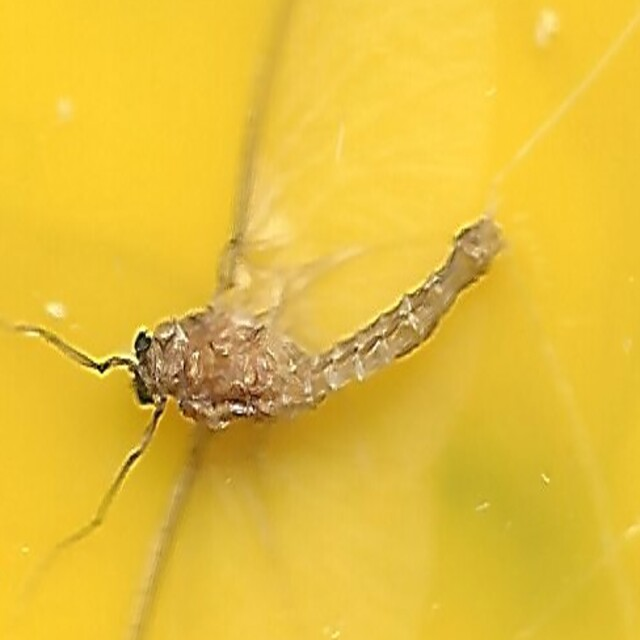Ephemeroptera: (131, 210, 509, 430)
